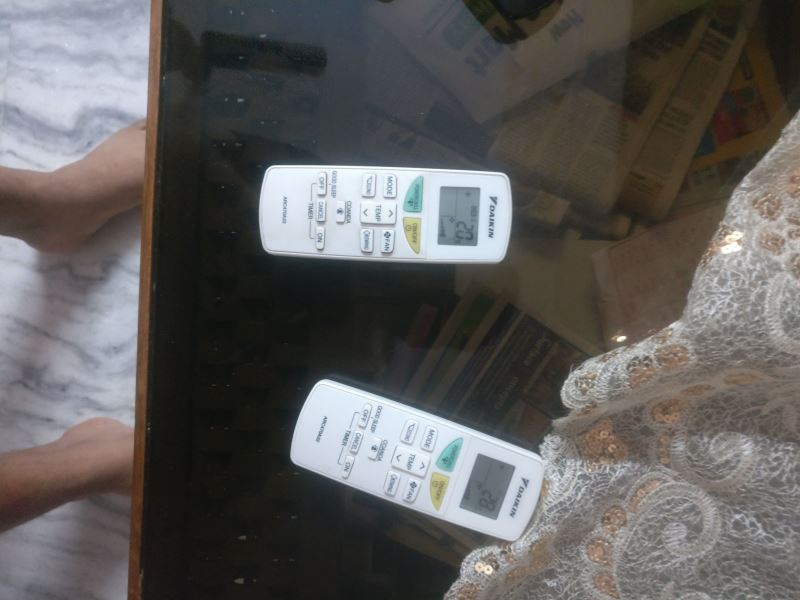ac remote: (288, 378, 543, 542), (257, 165, 519, 265)
